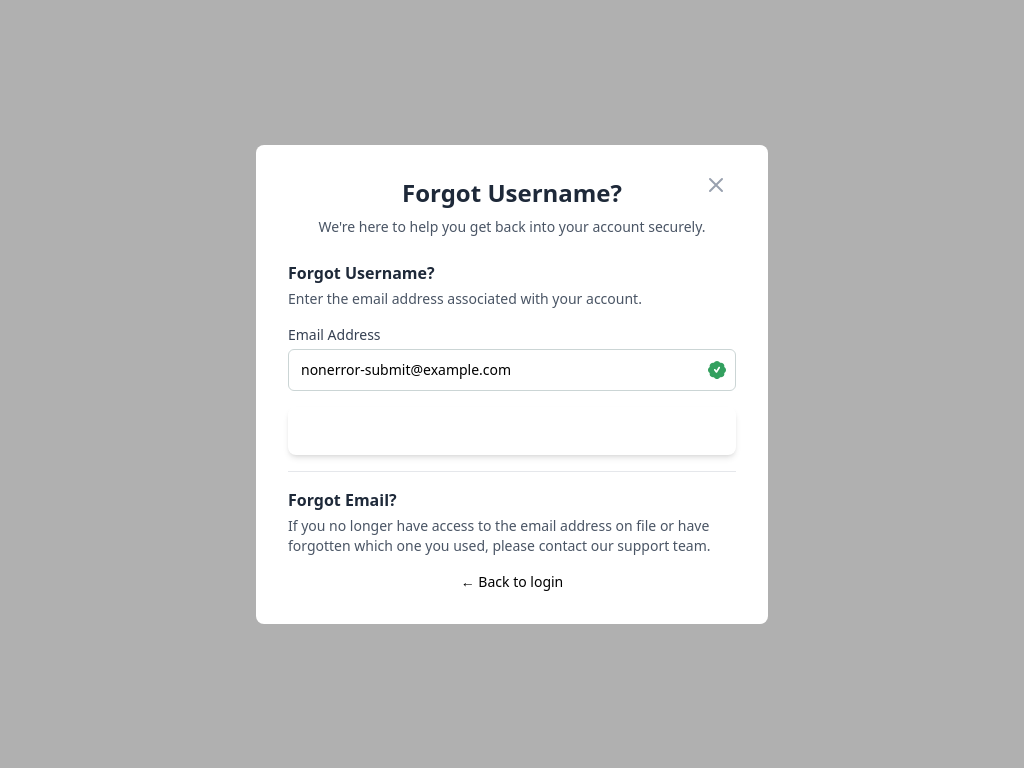
Scenario: ForgotUsernameForm Component › should use generic forgot-username error when submit throws non-Error
Step 1. Click the button "Receive Verification Link" → [512, 430], box [288,406,736,454]
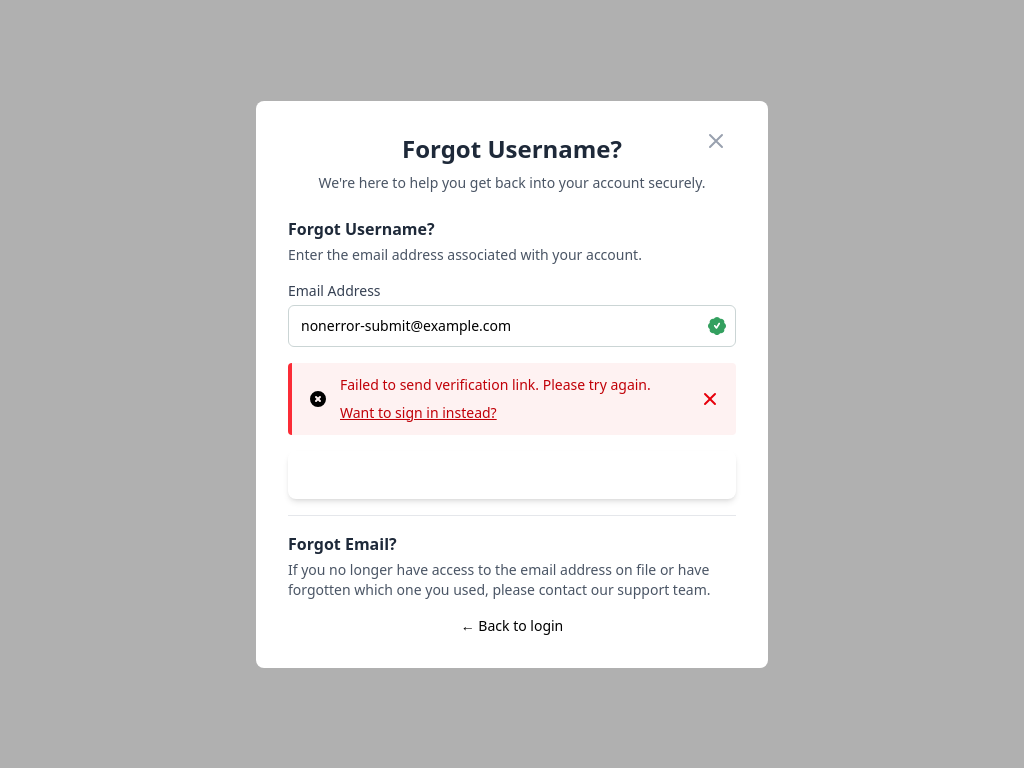
Check: the text "Failed to send verification link. Please try again." is shown, box [340,374,651,394]
